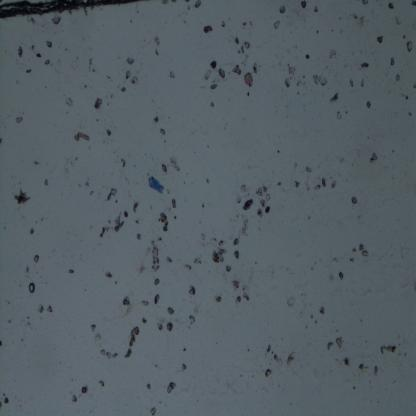Air bubble: (26, 281, 36, 294)
Background material: (255, 186, 272, 218), (124, 327, 140, 359), (267, 344, 285, 367), (211, 237, 226, 264), (151, 240, 161, 274), (14, 188, 32, 206), (74, 128, 92, 146), (100, 346, 119, 361), (284, 66, 296, 89), (157, 210, 169, 232), (312, 72, 328, 88), (124, 67, 139, 84), (314, 176, 328, 194), (90, 323, 102, 344), (238, 218, 250, 238), (122, 296, 134, 316), (115, 209, 124, 235), (106, 186, 118, 203), (64, 94, 76, 110), (168, 156, 180, 172), (98, 224, 110, 240), (285, 294, 297, 310), (379, 344, 396, 355), (244, 71, 254, 89), (286, 348, 296, 366), (166, 379, 177, 395), (187, 281, 197, 298), (232, 278, 242, 295), (359, 242, 369, 259), (328, 91, 341, 104), (352, 14, 366, 26), (51, 14, 62, 27), (243, 198, 254, 211), (22, 264, 32, 278), (94, 96, 104, 110), (216, 67, 226, 81), (240, 42, 250, 56), (15, 44, 24, 59), (203, 23, 214, 35), (232, 63, 242, 76), (165, 320, 175, 333), (350, 193, 359, 207), (204, 68, 213, 82), (240, 184, 251, 195), (297, 79, 308, 90), (278, 3, 288, 15), (324, 270, 334, 282), (188, 312, 196, 327), (328, 48, 338, 60), (193, 255, 203, 267), (23, 17, 37, 25), (406, 40, 414, 54), (372, 364, 380, 378), (335, 336, 343, 350), (369, 152, 378, 164), (1, 393, 10, 405), (45, 303, 54, 315), (326, 339, 334, 352), (126, 56, 136, 66), (264, 368, 274, 378), (359, 61, 370, 70), (166, 305, 175, 316), (335, 110, 344, 121), (156, 321, 165, 332), (395, 16, 404, 27), (132, 201, 140, 213), (318, 304, 326, 316), (180, 361, 188, 373), (330, 179, 338, 191), (45, 38, 53, 50), (154, 35, 161, 48), (209, 59, 218, 69), (293, 179, 302, 189), (104, 270, 114, 279), (358, 363, 369, 371), (376, 34, 384, 45), (70, 393, 78, 404), (37, 302, 44, 314), (88, 58, 94, 72), (140, 298, 149, 307), (14, 115, 23, 124), (67, 266, 75, 276), (165, 255, 173, 265), (214, 294, 222, 304), (343, 358, 351, 368), (194, 0, 202, 10), (182, 263, 192, 271), (210, 82, 218, 92), (300, 0, 308, 10), (243, 291, 250, 302), (153, 114, 160, 125), (233, 35, 240, 46), (389, 56, 396, 67), (145, 381, 152, 392), (171, 197, 177, 209), (150, 406, 157, 416), (273, 20, 280, 30), (135, 232, 142, 242), (220, 18, 227, 28), (199, 200, 206, 210), (226, 264, 233, 274), (387, 2, 394, 12), (161, 163, 168, 173), (154, 294, 160, 305), (252, 63, 258, 74), (360, 78, 366, 89), (338, 269, 344, 280), (305, 166, 313, 174), (80, 386, 88, 394), (234, 296, 242, 304), (28, 226, 35, 235), (233, 238, 240, 247), (159, 126, 166, 135), (120, 158, 126, 168), (98, 378, 104, 388), (234, 250, 240, 260), (366, 100, 372, 110), (395, 73, 401, 83), (34, 252, 39, 264), (169, 72, 176, 80), (141, 316, 148, 324), (349, 78, 354, 89), (107, 127, 112, 138), (44, 178, 50, 187), (122, 209, 128, 218), (313, 4, 319, 13), (154, 277, 160, 286), (201, 232, 206, 242), (152, 361, 159, 368), (44, 59, 51, 66), (89, 190, 96, 197), (161, 0, 169, 6), (26, 316, 30, 328), (83, 181, 91, 187), (154, 48, 160, 56), (236, 197, 242, 205), (121, 86, 127, 94), (362, 0, 369, 6), (171, 214, 177, 221), (34, 160, 41, 166), (349, 256, 355, 263), (31, 43, 36, 51), (246, 90, 251, 98), (63, 168, 68, 176), (210, 101, 215, 109), (36, 52, 42, 58), (407, 110, 413, 116), (248, 20, 254, 26), (26, 68, 32, 74), (105, 100, 110, 107), (8, 318, 13, 325), (411, 0, 416, 7), (276, 181, 283, 186), (412, 82, 416, 90), (306, 53, 310, 61), (136, 5, 140, 13), (186, 5, 192, 10), (134, 219, 140, 224), (206, 177, 210, 184), (110, 92, 114, 99), (83, 83, 88, 88), (314, 28, 318, 34), (16, 78, 20, 84), (310, 313, 314, 319), (107, 74, 111, 80), (170, 0, 178, 3), (405, 94, 409, 100), (314, 319, 318, 325), (276, 148, 280, 154), (0, 337, 2, 348), (183, 347, 187, 352), (159, 399, 162, 405), (64, 48, 68, 52), (79, 183, 82, 188), (244, 22, 247, 27), (346, 110, 349, 114), (186, 0, 190, 3), (44, 86, 47, 89), (404, 36, 406, 40), (96, 119, 98, 122), (76, 58, 80, 59)
Edge of slide: (0, 1, 136, 19)
Fragment: (147, 175, 165, 195)
